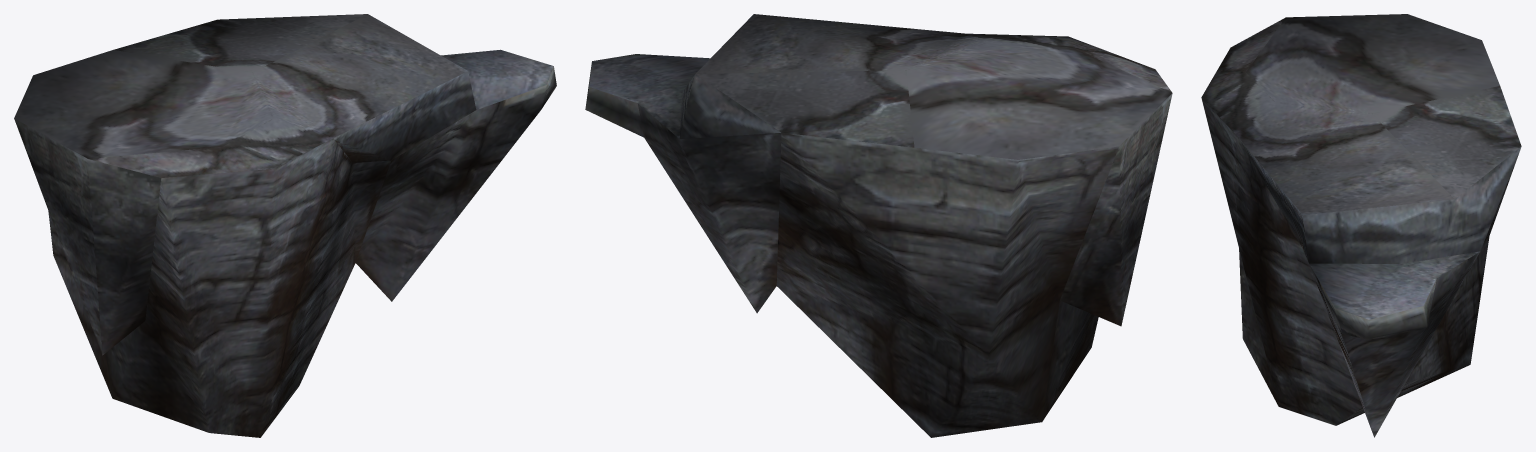
Rendered from GWZ_Stone_04_LOD2.FBX.
3 renders of one model, left to right at view 1: azimuth 30°, elevation 25°; view 2: azimuth 150°, elevation 25°; view 3: azimuth 270°, elevation 25°, orthographic. The views are drawn at different scales.
Visible parts, largest first — view 1: GWZ_Stone_04_LOD2; view 2: GWZ_Stone_04_LOD2; view 3: GWZ_Stone_04_LOD2.
Boxes of the visible parts, box(x1,y1,x2,y2) form: GWZ_Stone_04_LOD2: box(14, 14, 556, 437); GWZ_Stone_04_LOD2: box(585, 14, 1172, 437); GWZ_Stone_04_LOD2: box(1201, 14, 1521, 437).
Bounding box in the file's own units: 4634 × 2720 × 2529.
